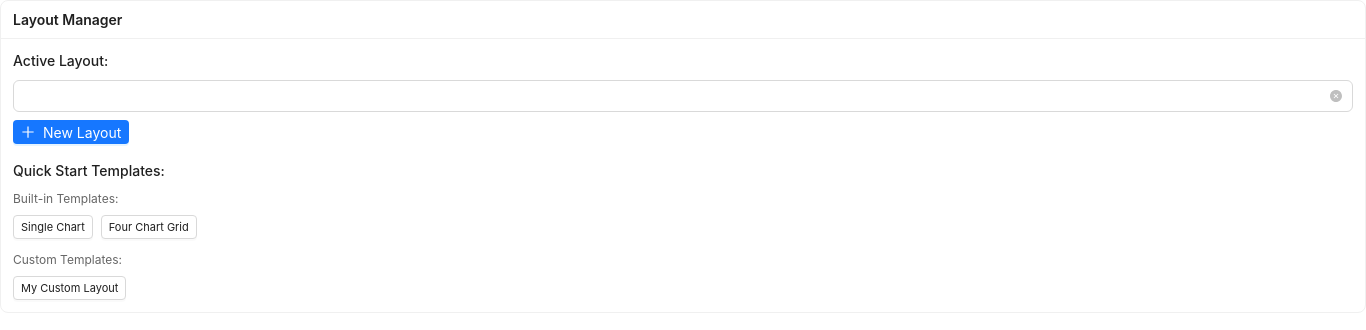
it: LayoutManager › Template Management › should show tooltips for templates
The width and height of the screenshot is (1366, 330).
Hover over the button "Single Chart" at [53, 227], box [13,215,93,239]
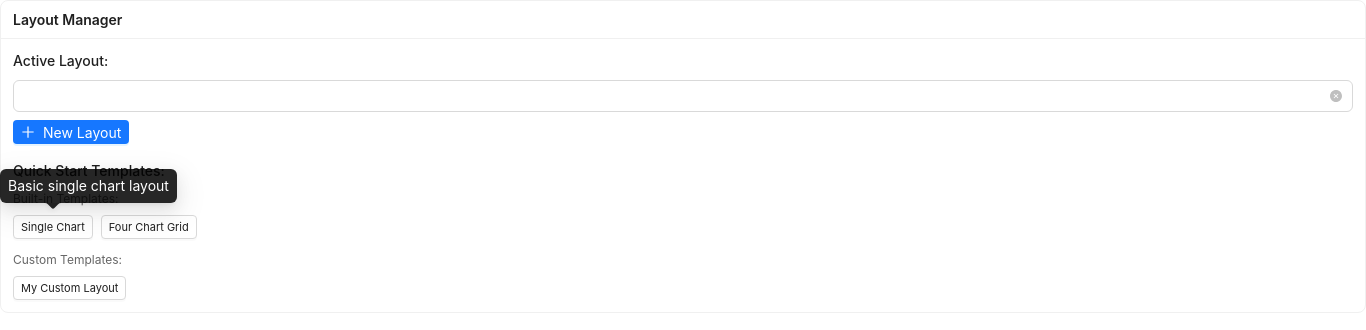
Expected: the tooltip "Basic single chart layout" is shown, [0,169,177,203]
